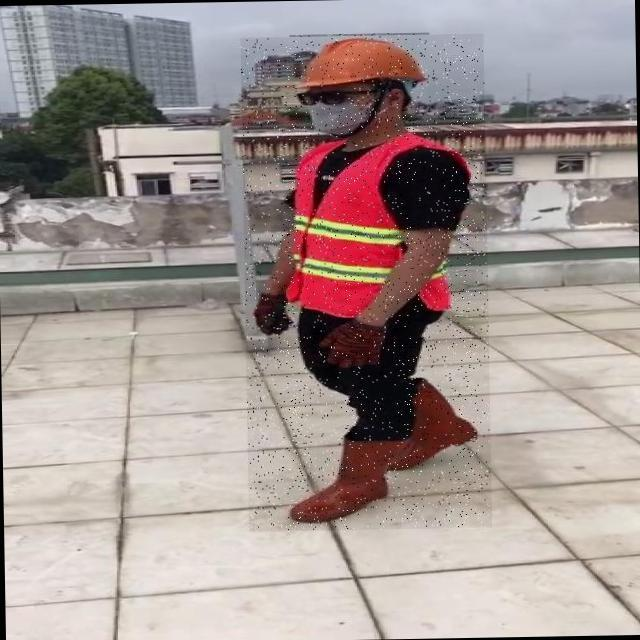Gloves: (318, 320, 387, 367), (252, 296, 293, 336)
Helmet: (290, 33, 431, 91)
Human: (240, 33, 492, 531)
Safety Boot: (289, 439, 404, 523), (401, 376, 479, 464)
Safety Vest: (289, 138, 450, 316)
